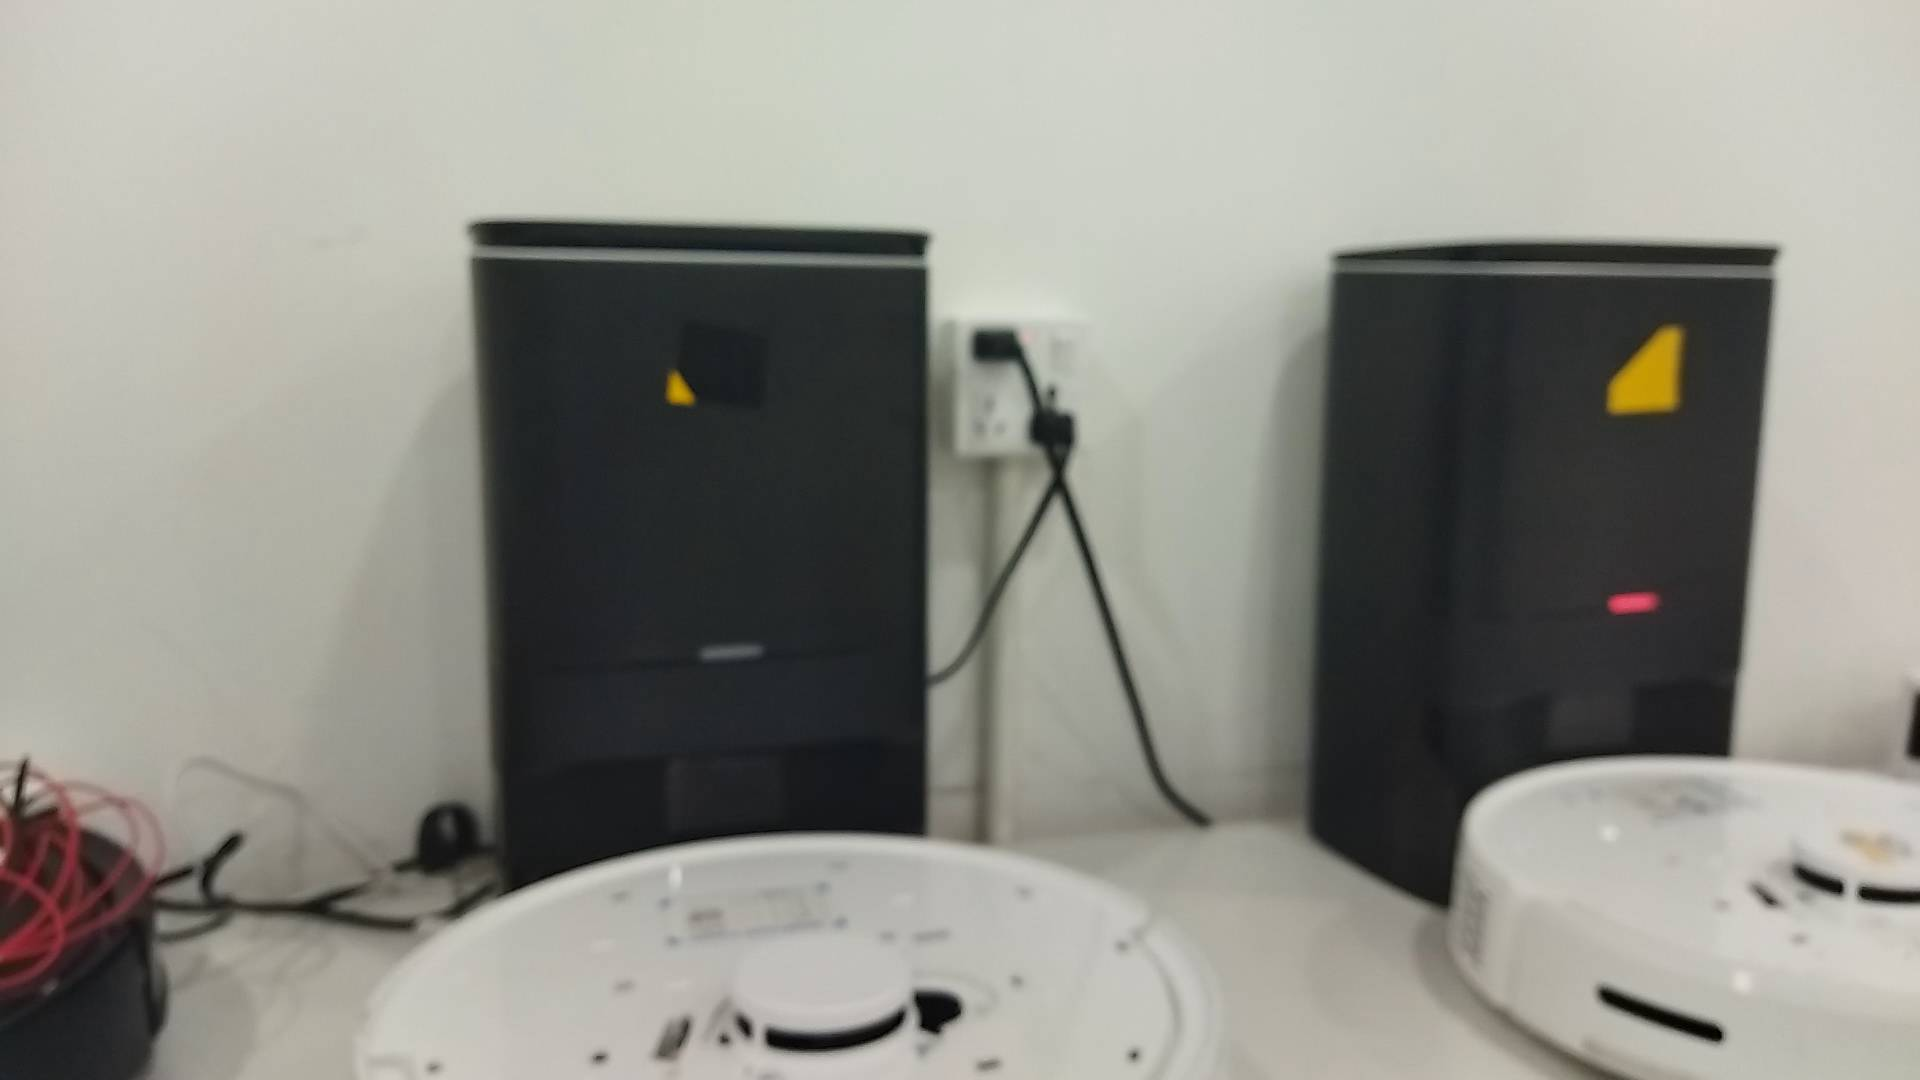dust collecting barrel: (468, 220, 934, 906), (1307, 247, 1779, 909)
